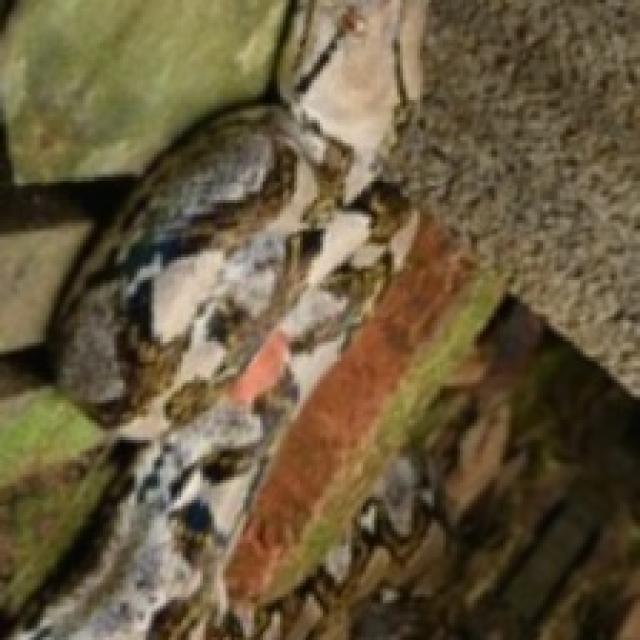reticulated python: (9, 0, 424, 639)
